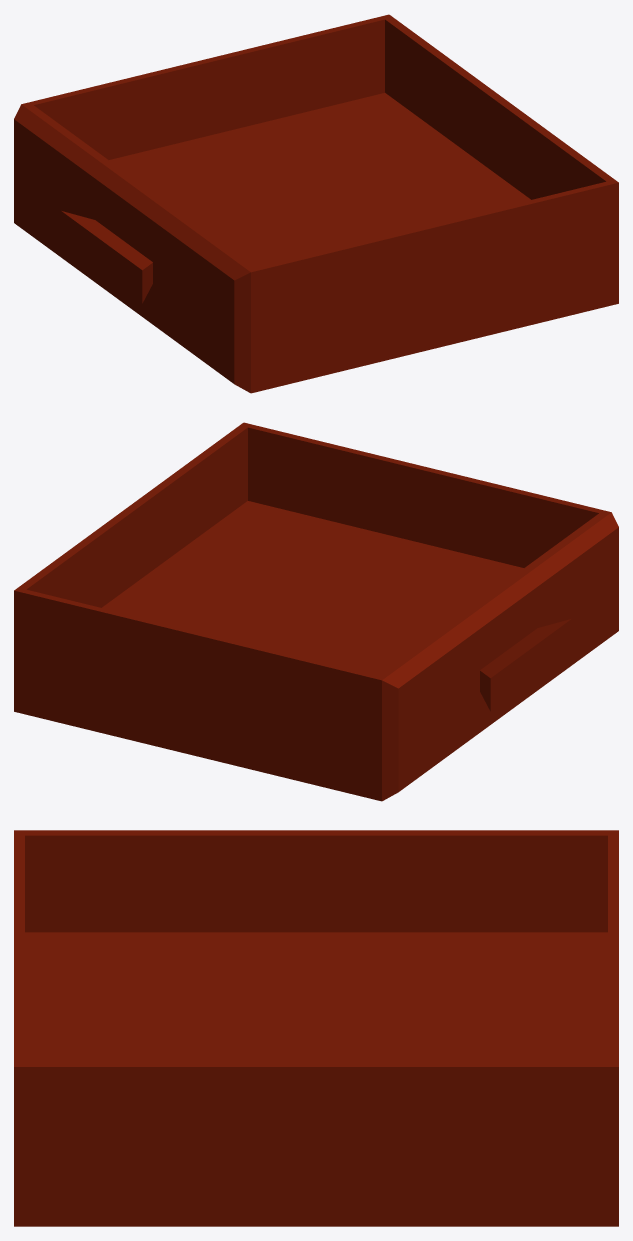
The model's file is m_DresserDoor02.FBX.
3 views of the same model, one above another, from view 1: azimuth 30°, elevation 25°; view 2: azimuth 150°, elevation 25°; view 3: azimuth 270°, elevation 25° (orthographic). The views are drawn at different scales.
Parts seen in each view (by area): view 1: DresserDoor02; view 2: DresserDoor02; view 3: DresserDoor02.
Part boxes in pixels (<box>): DresserDoor02: <box>14,14,618,393</box>; DresserDoor02: <box>14,422,618,801</box>; DresserDoor02: <box>14,830,618,1226</box>.
Bounding box in the file's own units: 43.42 × 42.92 × 12.49.
